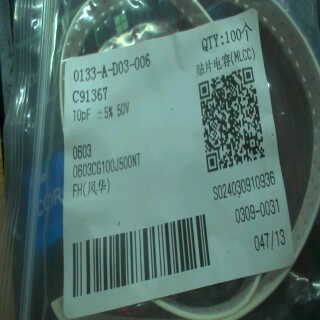10pF: (71, 104, 93, 127)
